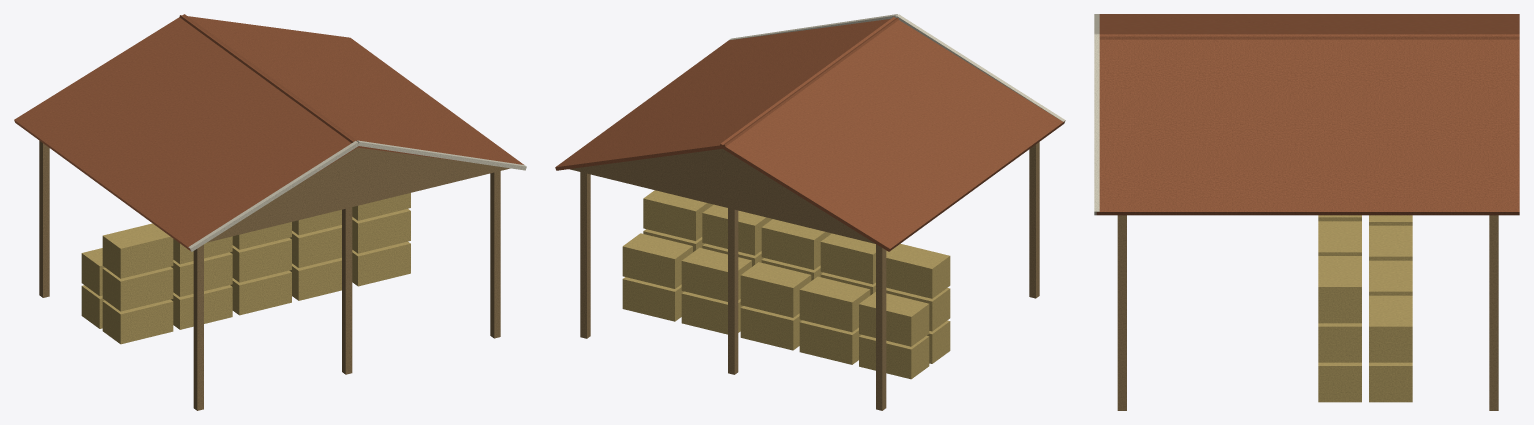
Rendered from HAYSHED2_lod2.glb.
3 views of the same model, side by side, from view 1: azimuth 30°, elevation 25°; view 2: azimuth 150°, elevation 25°; view 3: azimuth 270°, elevation 25° (orthographic). The views are drawn at different scales.
Parts seen in each view (by area): view 1: HAYSHED2_LOD2; view 2: HAYSHED2_LOD2; view 3: HAYSHED2_LOD2.
Part boxes in pixels (x1,y1,x2,y2): HAYSHED2_LOD2: (14, 14, 526, 410); HAYSHED2_LOD2: (555, 14, 1065, 410); HAYSHED2_LOD2: (1094, 14, 1519, 410).
Size of the model in its own units: 10.2 by 6.92 by 9.27.
Materials: 4 (4 with a texture image).
